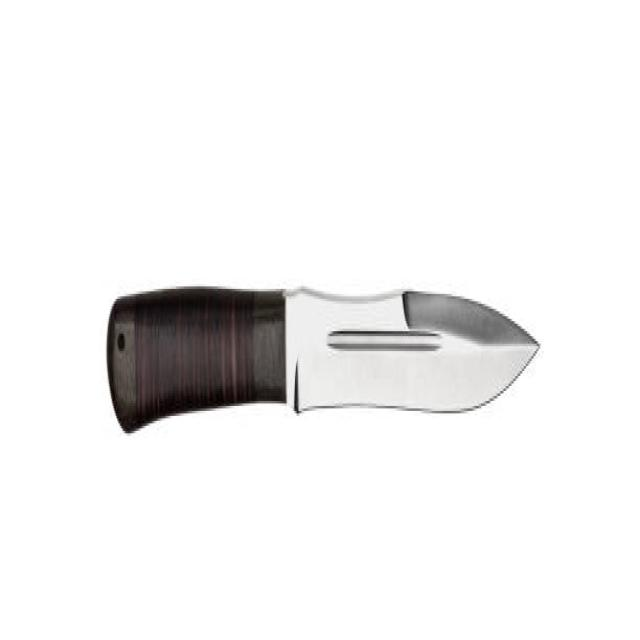knife: (106, 266, 541, 442)
